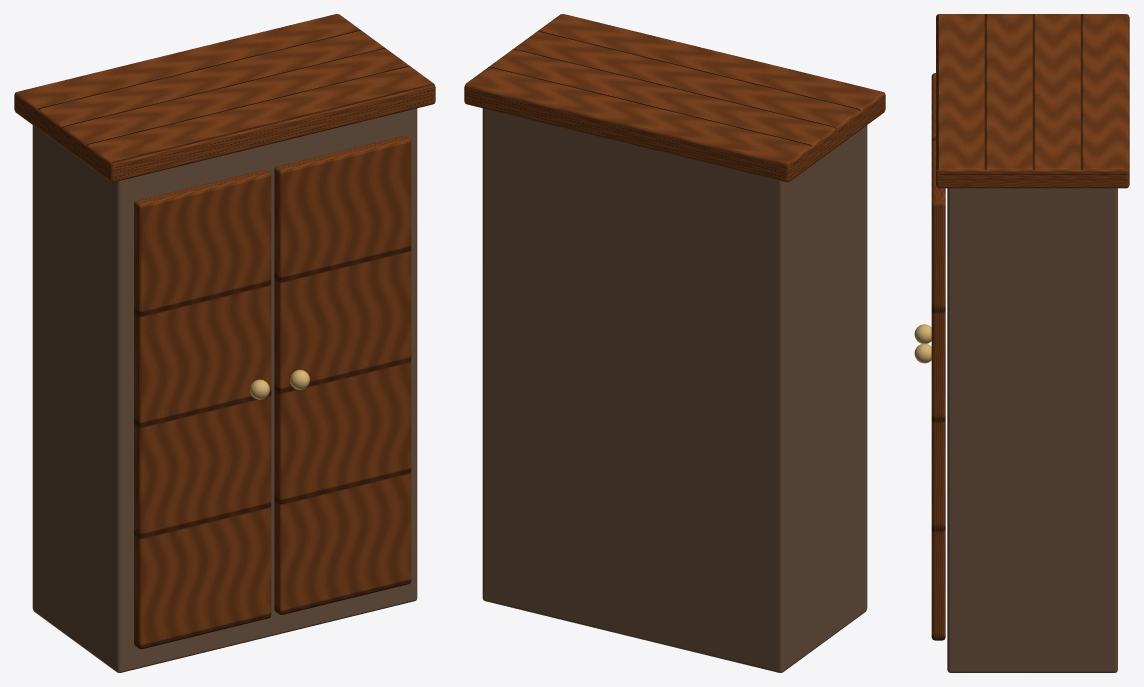
File: adventurers-tavern-and-guild-hall-wardrobe-8dbf0027__24706.glb
3 renders of one model, left to right at view 1: azimuth 30°, elevation 25°; view 2: azimuth 150°, elevation 25°; view 3: azimuth 270°, elevation 25°, orthographic.
Visible parts, largest first — view 1: wardrobe; view 2: wardrobe; view 3: wardrobe.
Part boxes in pixels (x1,y1,x2,y2): wardrobe: (14, 14, 435, 672); wardrobe: (464, 14, 885, 672); wardrobe: (914, 14, 1129, 672).
Size of the model in its own units: 1.3 by 1.98 by 0.755.
Materials: 3 (1 with a texture image).
